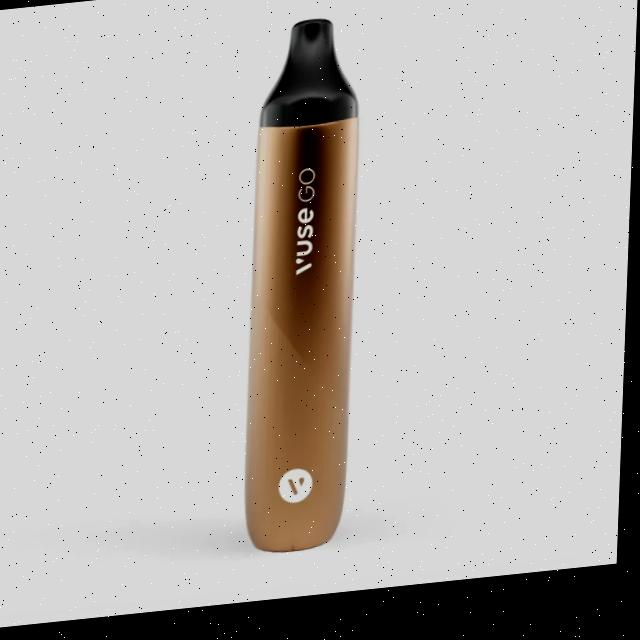vape: (244, 20, 365, 565)
